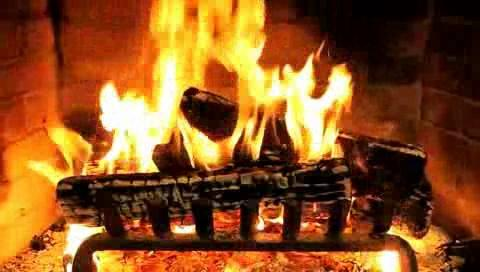fire: (87, 6, 359, 171)
